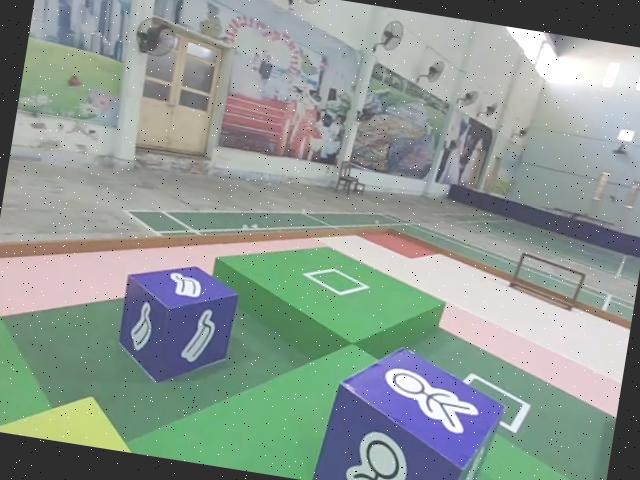R2 Real Blue: (317, 339, 512, 480), (114, 257, 246, 396)
